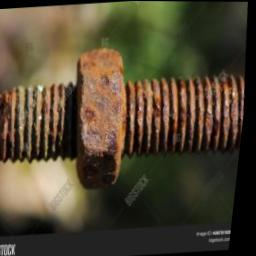Corroded-Nut-and-Bolt: (0, 47, 246, 190)
